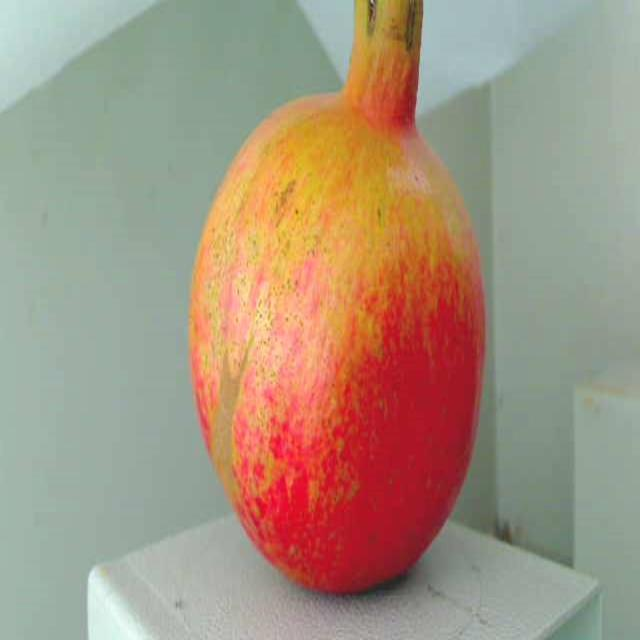pomegranate: (176, 0, 500, 602)
